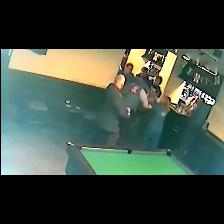person: (97, 75, 130, 146), (141, 97, 170, 148)
